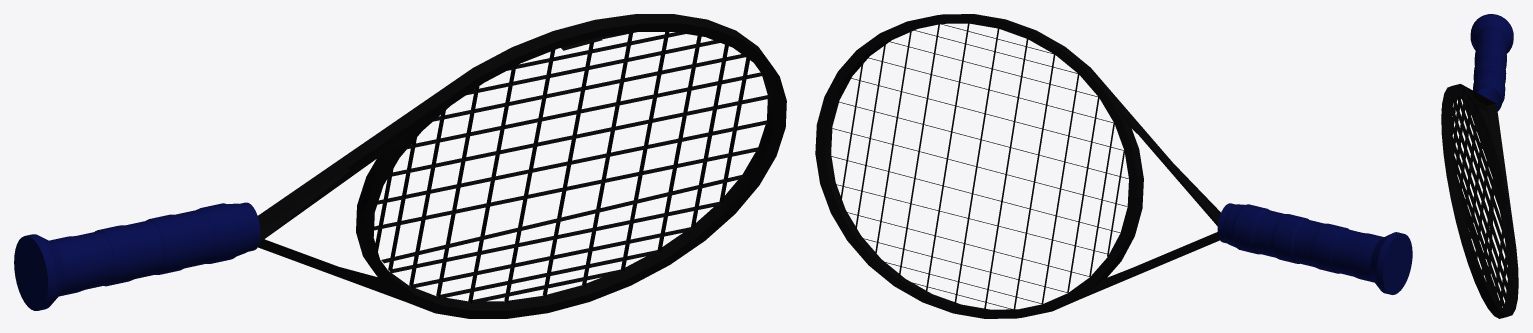
Rendered from tennis_racket.glb.
3 views of the same model, side by side, from view 1: azimuth 30°, elevation 25°; view 2: azimuth 150°, elevation 25°; view 3: azimuth 270°, elevation 25° (orthographic). The views are drawn at different scales.
Visible parts, largest first — view 1: Cilindro_2; view 2: Cilindro_2; view 3: Cilindro_2.
Boxes of the visible parts, <box> form: Cilindro_2: <box>14,14,786,318</box>; Cilindro_2: <box>815,14,1412,318</box>; Cilindro_2: <box>1441,14,1518,318</box>.
Bounding box in the file's own units: 4.55 × 1.94 × 0.6833.
